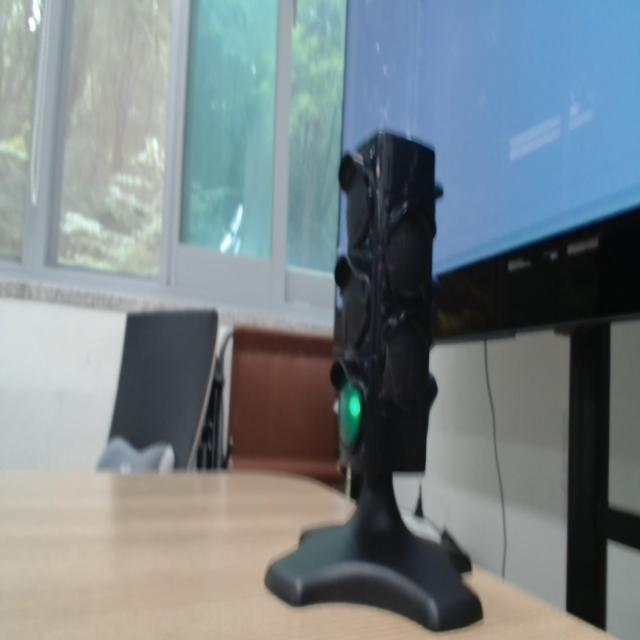green_light: (339, 384, 362, 449), (349, 394, 361, 419)
